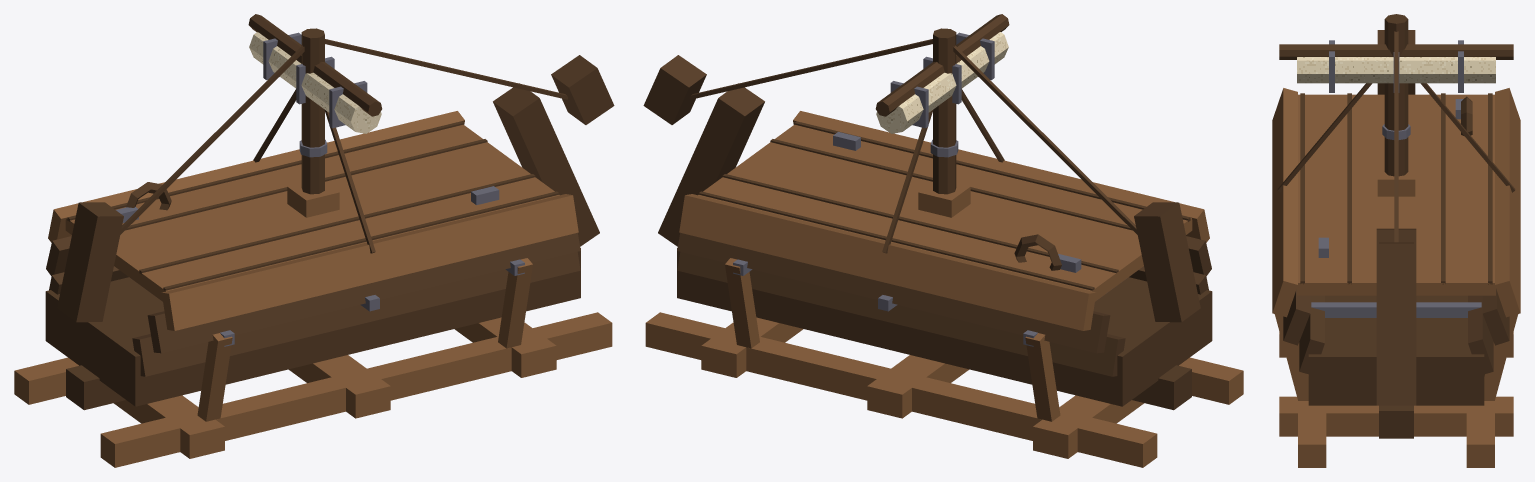
The model's file is spring_ship_t1.glb.
3 renders of one model, left to right at view 1: azimuth 30°, elevation 25°; view 2: azimuth 150°, elevation 25°; view 3: azimuth 270°, elevation 25°, orthographic. The views are drawn at different scales.
Visible parts, largest first — view 1: deck, hull_bottom, clinker_hull_1_2, cradle_skid_1, clinker_hull_1_1, clinker_hull_1_0, stern_post, raised_prow, clinker_hull_0_2, cradle_sleeper_0, cradle_sleeper_1, mast (+17 smaller); view 2: deck, hull_bottom, clinker_hull_0_2, cradle_skid_0, clinker_hull_0_1, clinker_hull_0_0, stern_post, raised_prow, clinker_hull_1_2, cradle_sleeper_0, mast, furled_sail (+18 smaller); view 3: deck, hull_bottom, cradle_sleeper_2, raised_prow, clinker_hull_0_2, clinker_hull_1_2, furled_sail, spar, mast, hull_band_2, prow_head, cradle_skid_0 (+21 smaller).
Boxes of the visible parts, left/top/right/bottom form: deck: left=65, top=124, right=559, bottom=301; hull_bottom: left=45, top=248, right=580, bottom=406; clinker_hull_1_2: left=161, top=194, right=578, bottom=330; cradle_skid_1: left=100, top=312, right=612, bottom=467; clinker_hull_1_1: left=147, top=233, right=580, bottom=353; clinker_hull_1_0: left=132, top=251, right=580, bottom=376; stern_post: left=57, top=202, right=123, bottom=322; raised_prow: left=493, top=83, right=599, bottom=246; clinker_hull_0_2: left=48, top=111, right=464, bottom=242; cradle_sleeper_0: left=113, top=395, right=224, bottom=458; cradle_sleeper_1: left=288, top=355, right=390, bottom=418; mast: left=301, top=28, right=324, bottom=194; deck: left=698, top=124, right=1192, bottom=301; hull_bottom: left=677, top=248, right=1212, bottom=406; clinker_hull_0_2: left=679, top=194, right=1096, bottom=330; cradle_skid_0: left=645, top=312, right=1157, bottom=467; clinker_hull_0_1: left=677, top=233, right=1110, bottom=353; clinker_hull_0_0: left=677, top=251, right=1125, bottom=376; stern_post: left=1134, top=202, right=1200, bottom=322; raised_prow: left=658, top=83, right=764, bottom=246; clinker_hull_1_2: left=793, top=111, right=1209, bottom=242; cradle_sleeper_0: left=1033, top=395, right=1144, bottom=458; mast: left=933, top=28, right=956, bottom=194; furled_sail: left=876, top=32, right=1008, bottom=133; deck: left=1297, top=94, right=1495, bottom=295; hull_bottom: left=1308, top=295, right=1484, bottom=405; cradle_sleeper_2: left=1279, top=396, right=1513, bottom=436; raised_prow: left=1376, top=228, right=1416, bottom=405; clinker_hull_0_2: left=1495, top=88, right=1520, bottom=317; clinker_hull_1_2: left=1272, top=88, right=1297, bottom=317; furled_sail: left=1297, top=57, right=1495, bottom=83; spar: left=1279, top=44, right=1513, bottom=59; mast: left=1384, top=14, right=1408, bottom=176; hull_band_2: left=1311, top=302, right=1481, bottom=317; prow_head: left=1379, top=242, right=1413, bottom=292; cradle_skid_0: left=1466, top=413, right=1494, bottom=467.
Size of what is drawn, in the model's own units: 5.22 by 3.11 by 2.12.
Materials: 4 (1 with a texture image).
